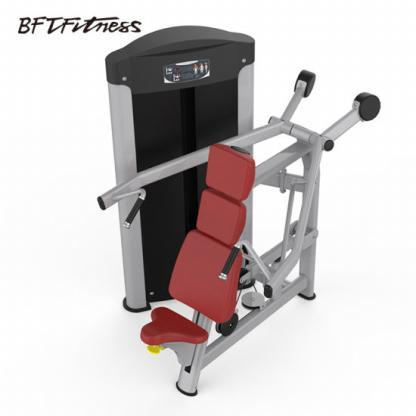shoulder press machine: (102, 37, 380, 398)
